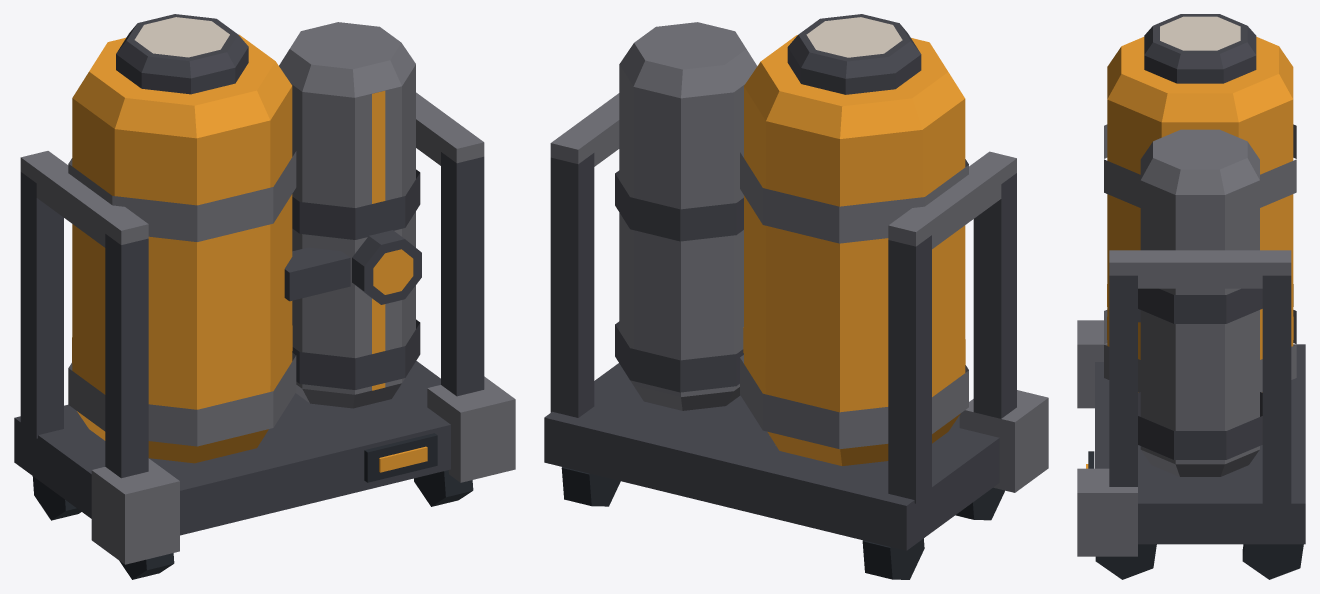
Rendered from fuel.glb.
3 views of the same model, side by side, from view 1: azimuth 30°, elevation 25°; view 2: azimuth 150°, elevation 25°; view 3: azimuth 270°, elevation 25° (orthographic). The views are drawn at different scales.
Visible parts, largest first — view 1: Support_Frame.001, Main_Vessel.001, Auxiliary_Vessel.001, Main_Strap.002, Main_Strap.003, Fill_Cap.001, Lower_Colour_Band.001, Auxiliary_Strap.003, Auxiliary_Strap.002, Tap_Bridge.001, Cap_Inset.001, Tap_Valve.001 (+7 smaller); view 2: Support_Frame.001, Main_Vessel.001, Auxiliary_Vessel.001, Main_Strap.002, Main_Strap.003, Fill_Cap.001, Lower_Colour_Band.001, Auxiliary_Strap.003, Auxiliary_Strap.002, Cap_Inset.001, Wheel.005, Wheel.007 (+1 smaller); view 3: Support_Frame.001, Auxiliary_Vessel.001, Main_Vessel.001, Fill_Cap.001, Auxiliary_Strap.002, Auxiliary_Strap.003, Main_Strap.003, Cap_Inset.001, Wheel.007, Wheel.006, Main_Strap.002, Lower_Colour_Band.001.
Part boxes in pixels (x1,y1,x2,y2): Support_Frame.001: [14, 92, 515, 564]; Main_Vessel.001: [72, 34, 292, 463]; Auxiliary_Vessel.001: [279, 22, 415, 408]; Main_Strap.002: [68, 353, 296, 446]; Main_Strap.003: [68, 148, 296, 241]; Fill_Cap.001: [116, 14, 248, 94]; Lower_Colour_Band.001: [72, 325, 292, 403]; Auxiliary_Strap.003: [292, 169, 420, 239]; Auxiliary_Strap.002: [292, 319, 420, 389]; Tap_Bridge.001: [284, 247, 350, 301]; Cap_Inset.001: [134, 17, 229, 57]; Tap_Valve.001: [352, 230, 421, 304]; Support_Frame.001: [544, 93, 1048, 550]; Main_Vessel.001: [744, 35, 965, 466]; Auxiliary_Vessel.001: [619, 22, 757, 410]; Main_Strap.002: [740, 355, 968, 449]; Main_Strap.003: [740, 149, 968, 243]; Fill_Cap.001: [787, 14, 921, 94]; Lower_Colour_Band.001: [743, 327, 965, 405]; Auxiliary_Strap.003: [615, 170, 743, 241]; Auxiliary_Strap.002: [615, 321, 743, 392]; Cap_Inset.001: [806, 17, 902, 57]; Wheel.005: [862, 538, 924, 579]; Wheel.007: [561, 467, 620, 506]; Support_Frame.001: [1077, 250, 1305, 556]; Auxiliary_Vessel.001: [1140, 129, 1259, 476]; Main_Vessel.001: [1107, 36, 1293, 392]; Fill_Cap.001: [1144, 14, 1256, 83]; Auxiliary_Strap.002: [1138, 392, 1262, 459]; Auxiliary_Strap.003: [1138, 288, 1262, 323]; Main_Strap.003: [1104, 124, 1296, 207]; Cap_Inset.001: [1160, 16, 1240, 50]; Wheel.007: [1242, 544, 1303, 579]; Wheel.006: [1095, 544, 1156, 579]; Main_Strap.002: [1104, 310, 1296, 392]; Lower_Colour_Band.001: [1107, 284, 1293, 353].
Size of the model in its own units: 1.28 by 1.53 by 0.715.
